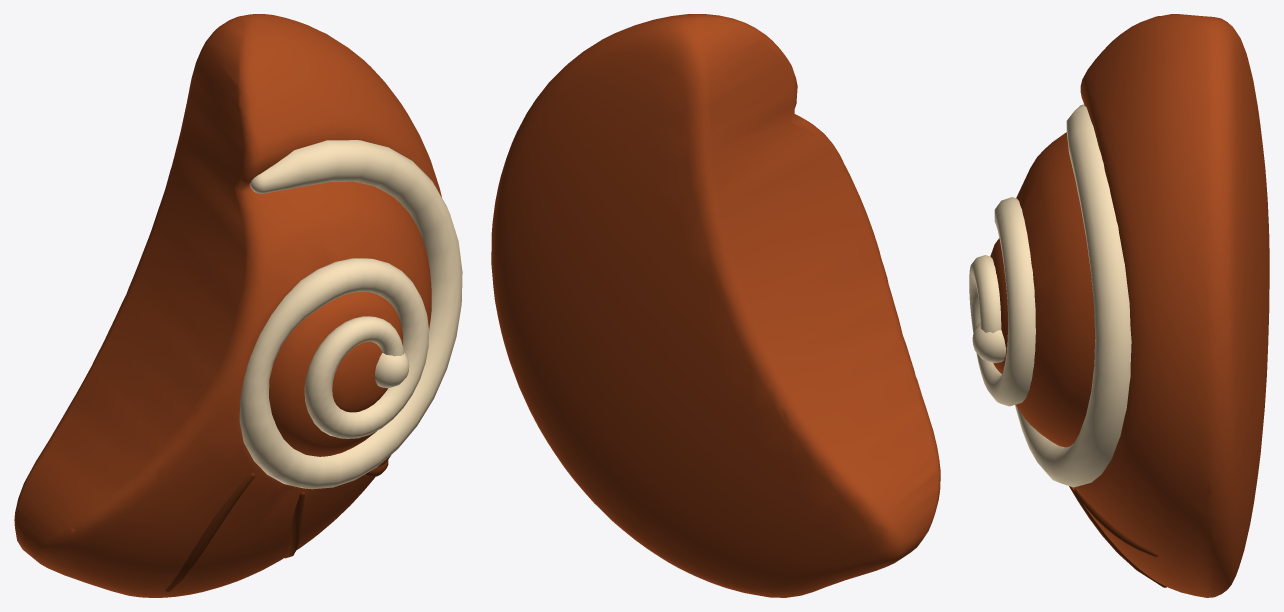
The model's file is snail-shell.glb.
3 renders of one model, left to right at view 1: azimuth 30°, elevation 25°; view 2: azimuth 150°, elevation 25°; view 3: azimuth 270°, elevation 25°, orthographic. The views are drawn at different scales.
Visible parts, largest first — view 1: snail_shell, snail_spiral, snail_growth; view 2: snail_shell; view 3: snail_shell, snail_spiral, snail_growth.
Part boxes in pixels (box(x1,y1,x2,y2)): snail_shell: box(14, 14, 441, 597); snail_spiral: box(239, 140, 462, 489); snail_growth: box(165, 460, 388, 592); snail_shell: box(491, 14, 940, 597); snail_shell: box(980, 14, 1269, 597); snail_spiral: box(969, 104, 1131, 487); snail_growth: box(1069, 486, 1166, 587).
Size of the model in its own units: 0.5645 by 0.7199 by 0.335.
